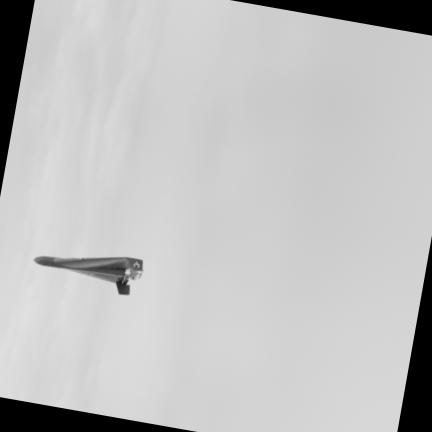Shahed: (34, 256, 143, 294)
